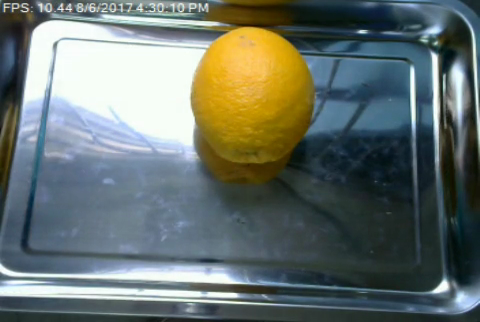Orange: (189, 27, 315, 164)
